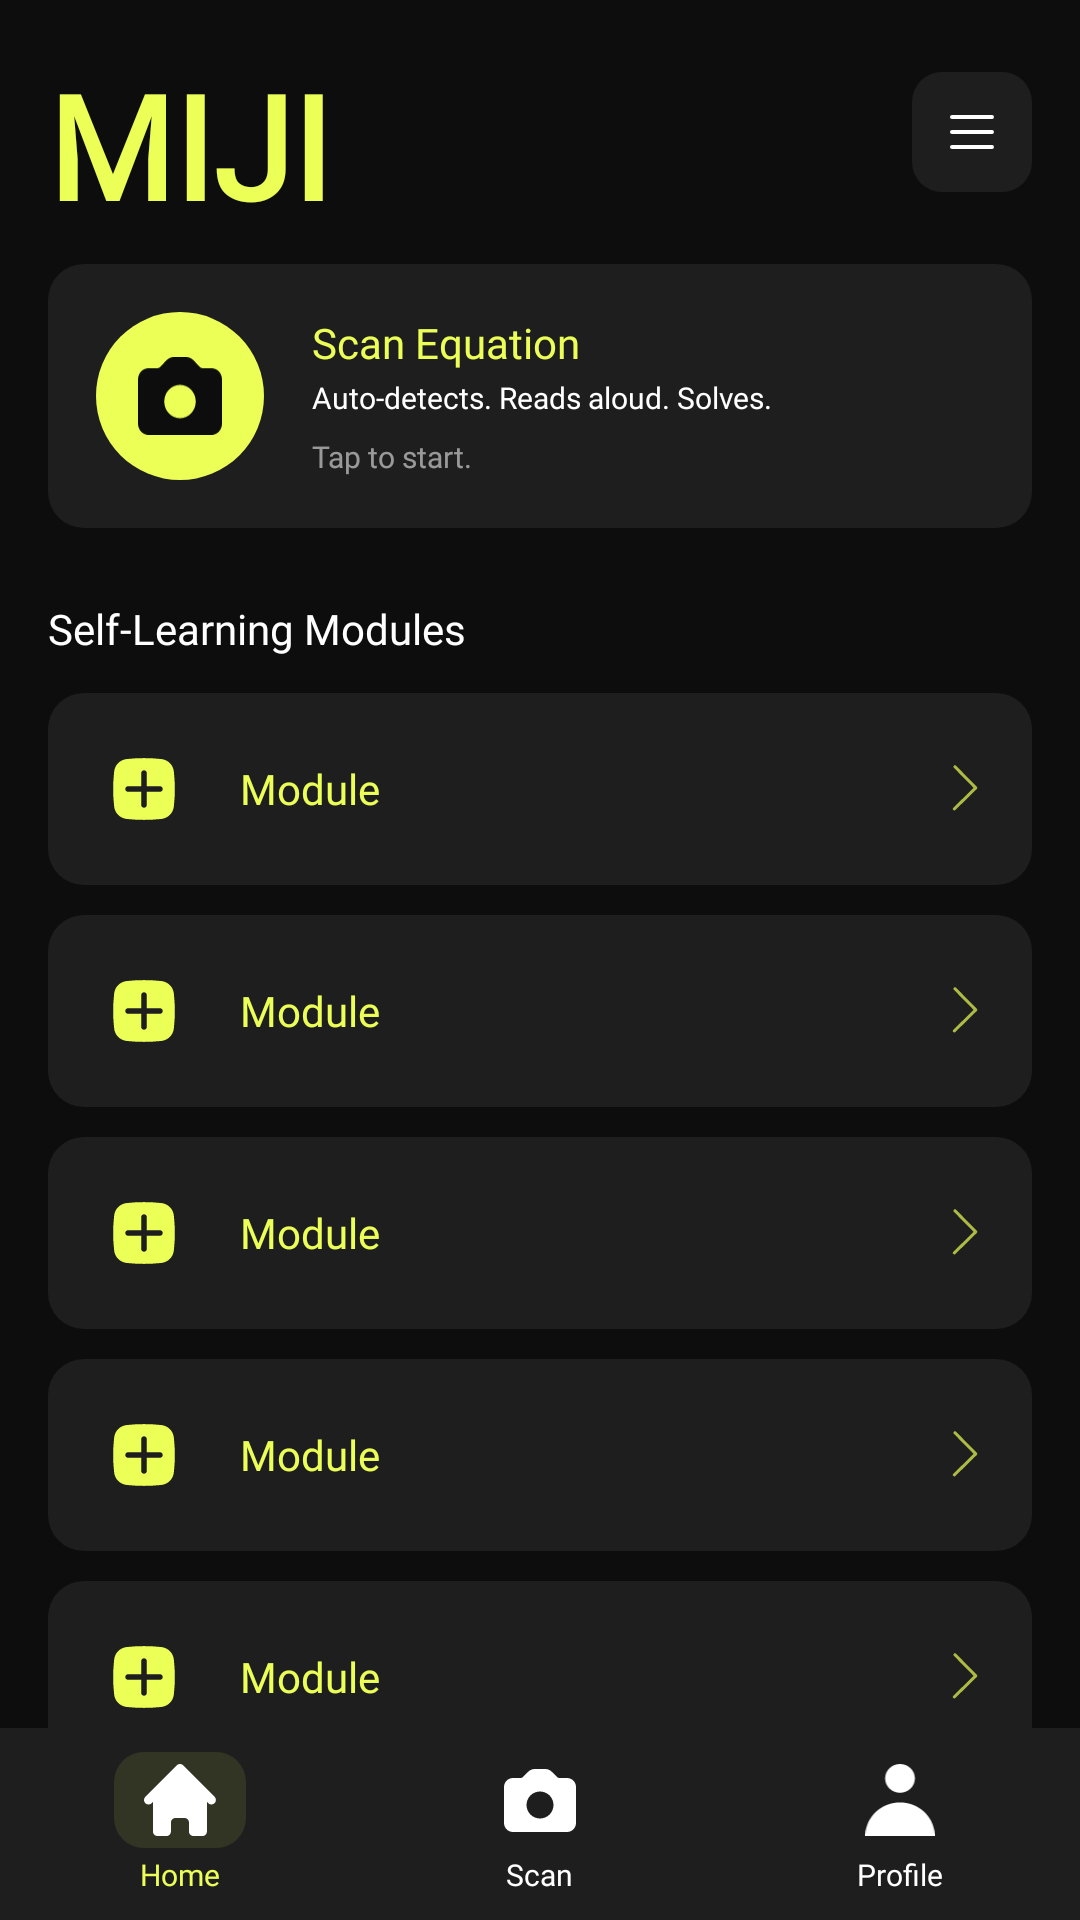

Locate icon controls on the screen. Image size 1080×1920, boxes as (x1, y1, x2, y2).
Camera: (138, 357, 222, 435)
Menu: (912, 72, 1032, 192)
